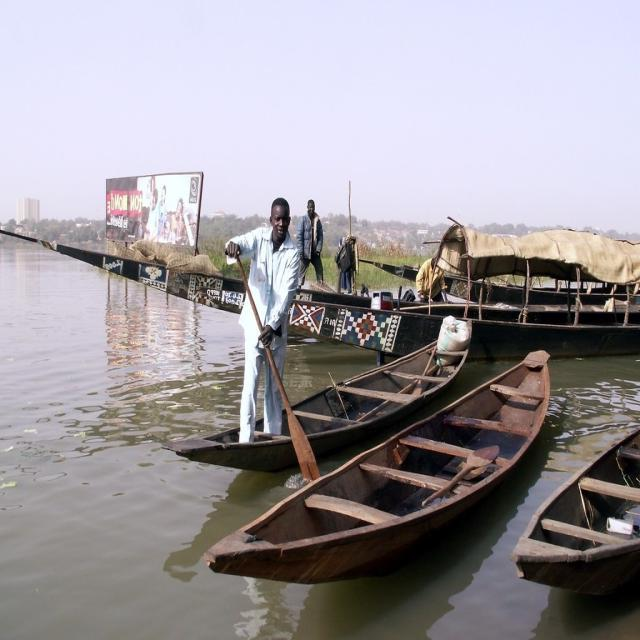boat: (198, 343, 566, 581), (0, 223, 640, 349), (174, 338, 472, 479)
